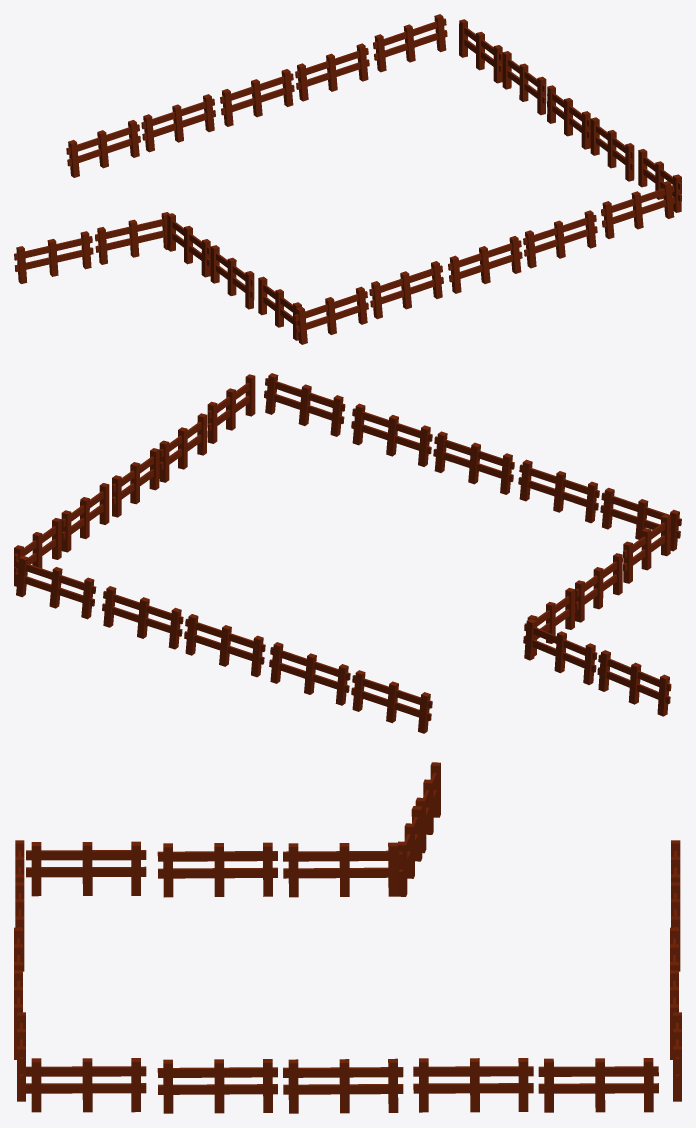
The model's file is theFoldFence.fbx.
3 views of the same model, one above another, from view 1: azimuth 30°, elevation 25°; view 2: azimuth 150°, elevation 25°; view 3: azimuth 270°, elevation 25° (orthographic). The views are drawn at different scales.
Parts seen in each view (by area): view 1: pCylinder1.001; view 2: pCylinder1.001; view 3: pCylinder1.001.
Boxes of the visible parts, bbox=[...] form: pCylinder1.001: bbox=[14, 14, 681, 344]; pCylinder1.001: bbox=[14, 373, 681, 733]; pCylinder1.001: bbox=[14, 762, 681, 1113].
Size of the model in its own units: 57.68 by 8.71 by 44.04.
